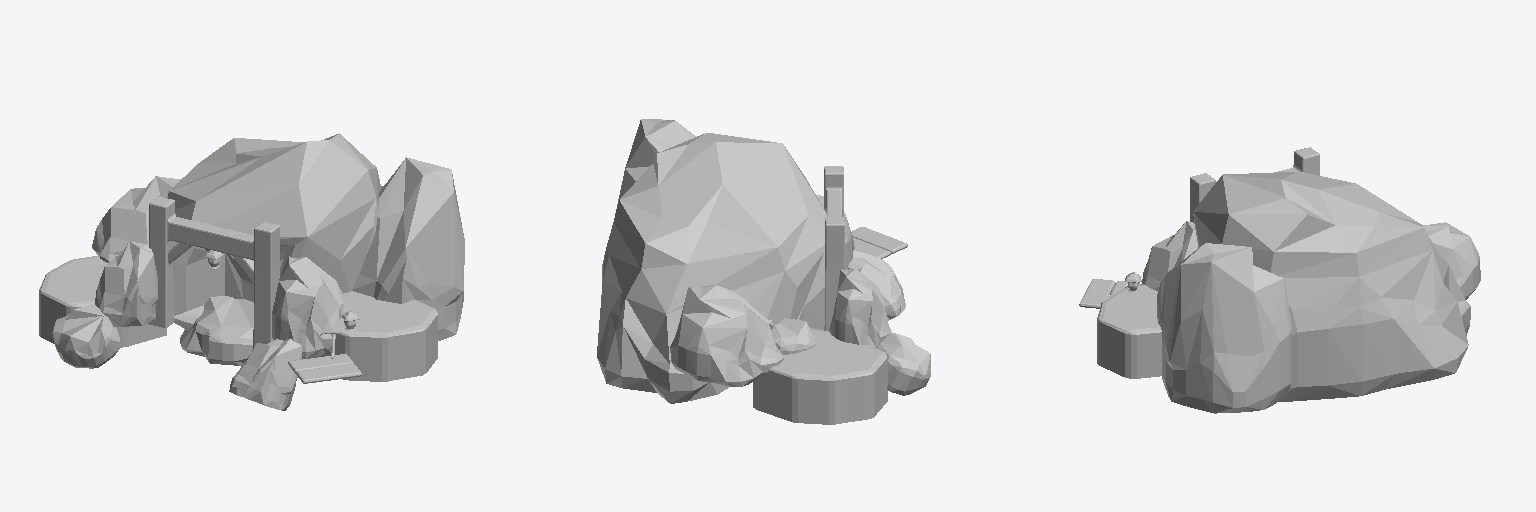
File: SM_Mine 2.obj
3 views of the same model, side by side, from view 1: azimuth 30°, elevation 25°; view 2: azimuth 150°, elevation 25°; view 3: azimuth 270°, elevation 25° (orthographic).
Parts seen in each view (by area): view 1: SM_mine.001; view 2: SM_mine.001; view 3: SM_mine.001.
Boxes of the visible parts, x1,y1,x2,y2 form: SM_mine.001: [39, 133, 464, 410]; SM_mine.001: [597, 119, 930, 424]; SM_mine.001: [1079, 147, 1480, 413].
Bounding box in the file's own units: 7.04 × 3.82 × 6.85.